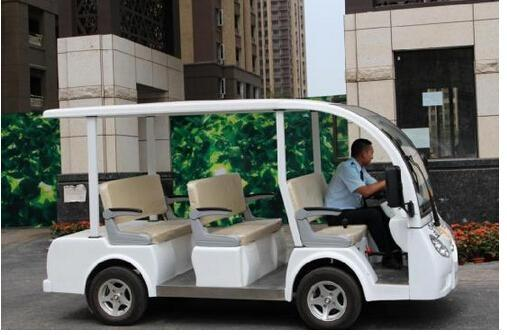NoHelmet: (352, 138, 375, 167)
